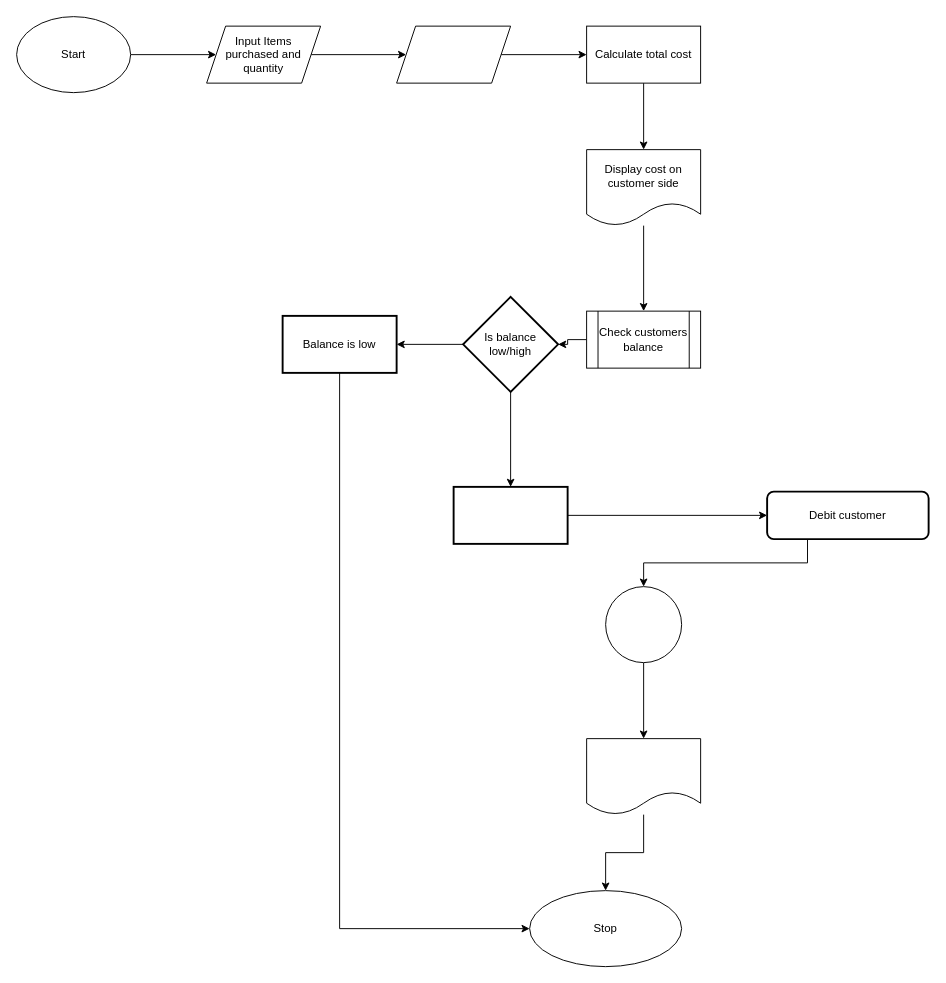
The diagram is 946 pixels wide and 983 high, and some of its shapes have lost their labels. The box of each missing label's shape, as (x1, y1, x2, y2) in pixels:
Access value of purchase in storage: (605, 586, 682, 663)
Balance is high: (452, 485, 568, 544)
Input unit cost: (396, 25, 511, 83)
Print value in reciept: (586, 738, 701, 815)
